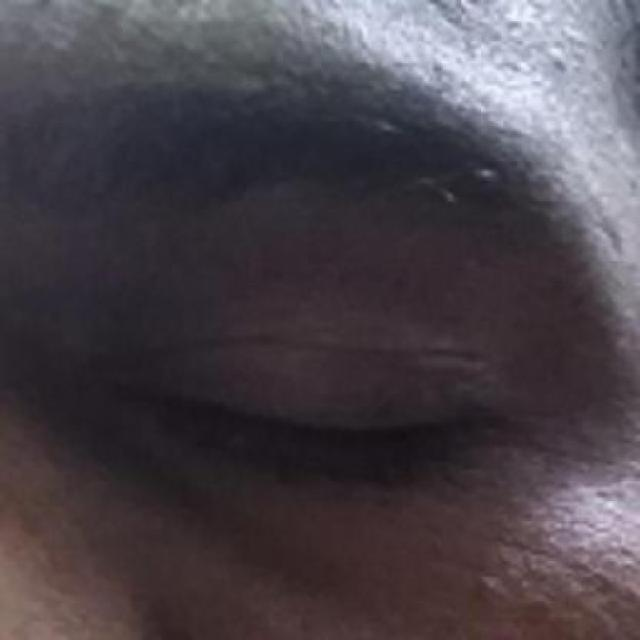drowsy: (112, 318, 506, 534)
